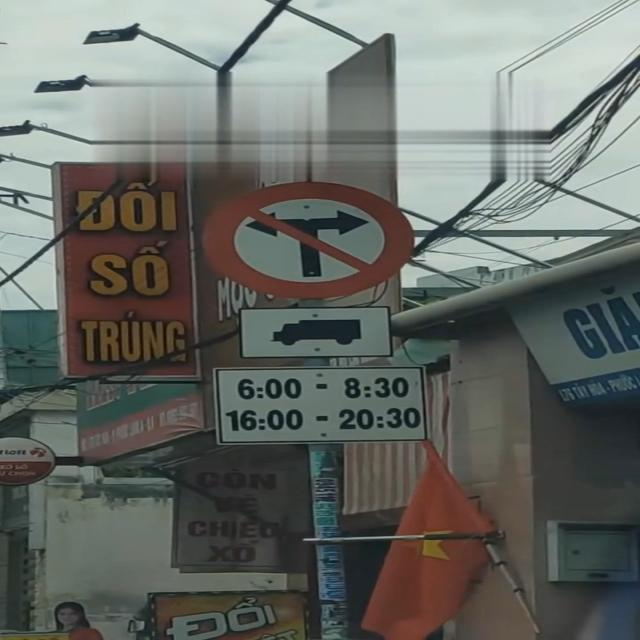137-cam-re-trai-va-re-phai: (195, 180, 418, 296)
